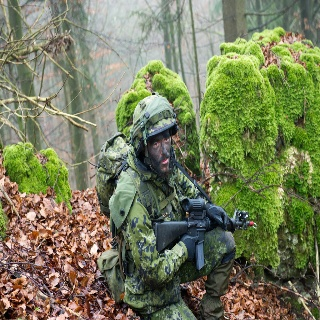rifle: (154, 197, 254, 270)
